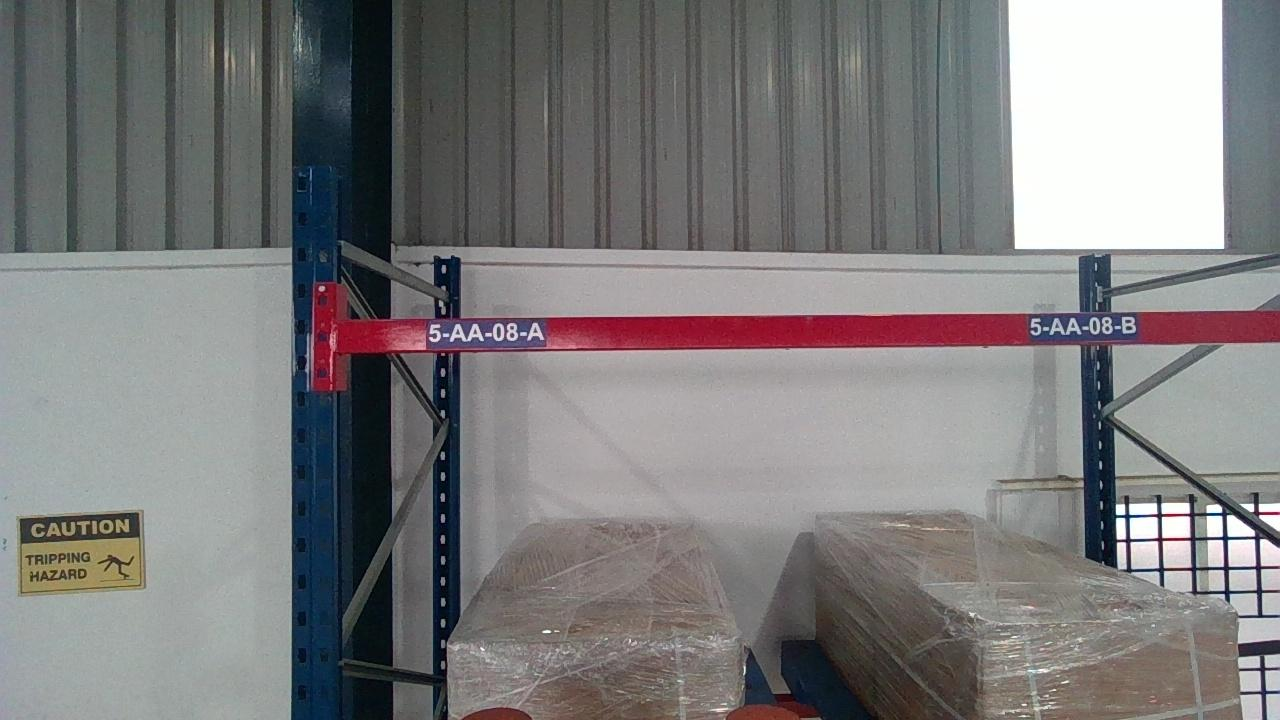h_rack: (334, 321, 1277, 345)
